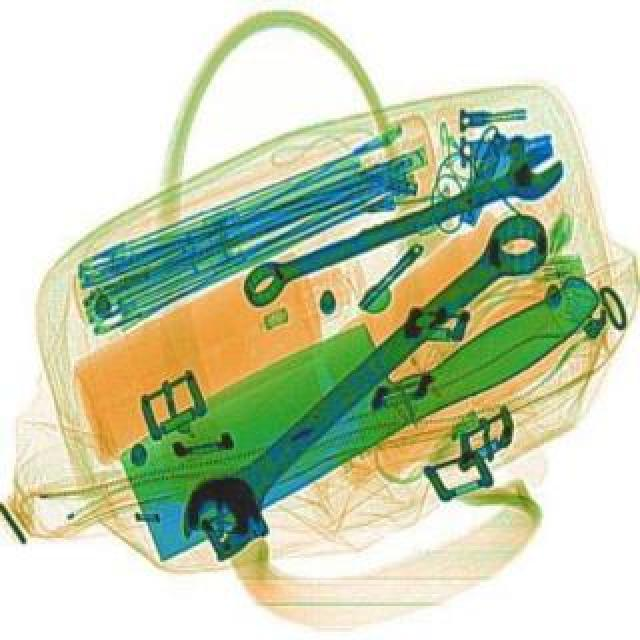knife: (94, 210, 614, 564)
scissors: (164, 186, 566, 568), (230, 134, 572, 310)
